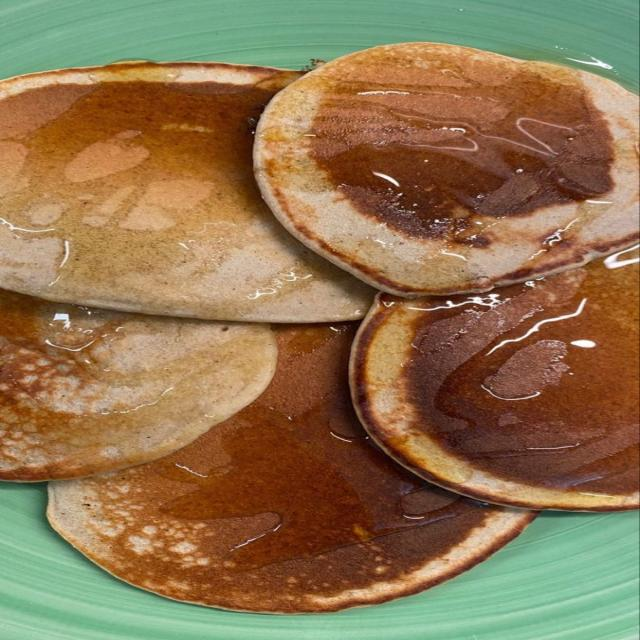pancake: (49, 325, 533, 613), (255, 43, 638, 297), (0, 62, 372, 322), (351, 251, 639, 510), (0, 291, 276, 481)
